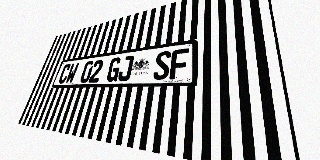0: (79, 61, 95, 83)
2: (88, 59, 104, 83)
C: (57, 64, 72, 84)
F: (169, 48, 189, 79)
G: (105, 57, 122, 82)
J: (117, 55, 134, 81)
S: (152, 50, 172, 80)
W: (65, 63, 79, 83)
